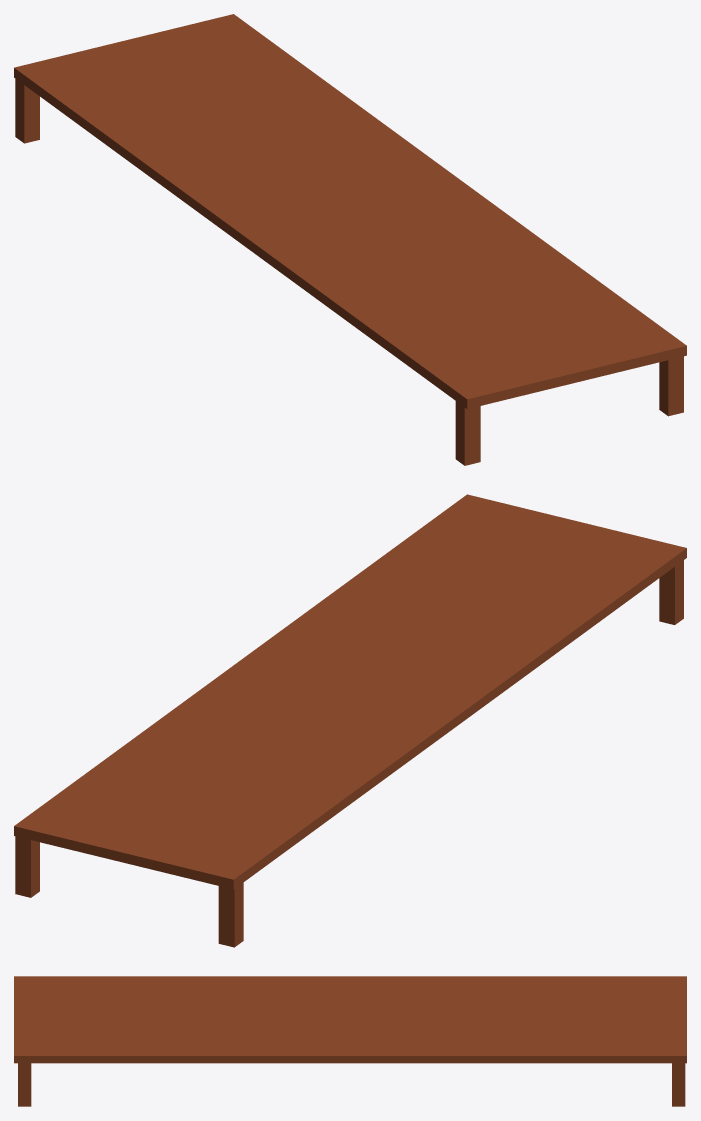
The model's file is Table.fbx.
3 renders of one model, top to bottom at view 1: azimuth 30°, elevation 25°; view 2: azimuth 150°, elevation 25°; view 3: azimuth 270°, elevation 25°, orthographic. The views are drawn at different scales.
Parts seen in each view (by area): view 1: TableTop, TableLeg4, TableLeg3, TableLeg1; view 2: TableTop, TableLeg1, TableLeg2, TableLeg4; view 3: TableTop, TableLeg2, TableLeg3.
Boxes of the visible parts, x1,y1,x2,y2 form: TableTop: (14,14,686,409); TableLeg4: (455,401,480,465); TableLeg3: (659,356,683,416); TableLeg1: (15,79,39,143); TableTop: (14,494,686,889); TableLeg1: (218,882,243,947); TableLeg2: (15,836,39,897); TableLeg4: (659,560,683,624); TableTop: (14,976,686,1063); TableLeg2: (672,1063,685,1106); TableLeg3: (18,1063,31,1106).
Size of the model in its own units: 700 by 209 by 2500.
